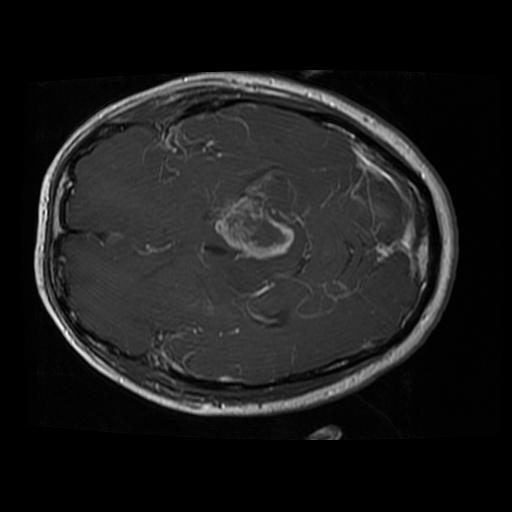glioma: (212, 193, 295, 265)
